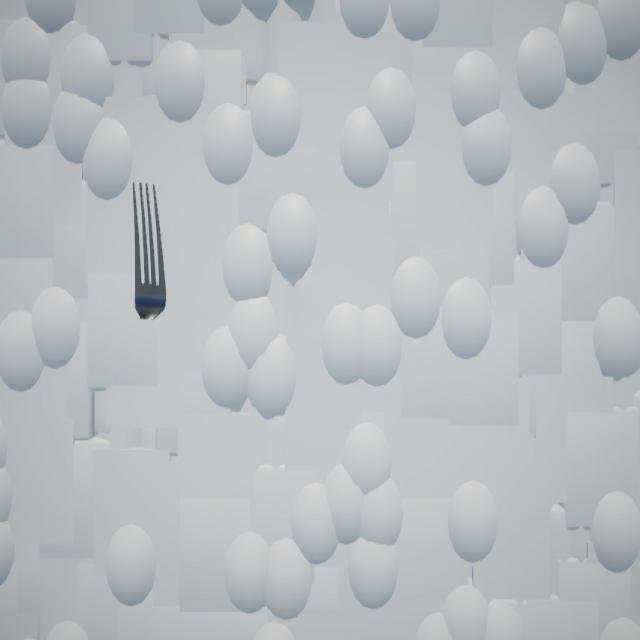top_folk: (133, 184, 168, 321)
